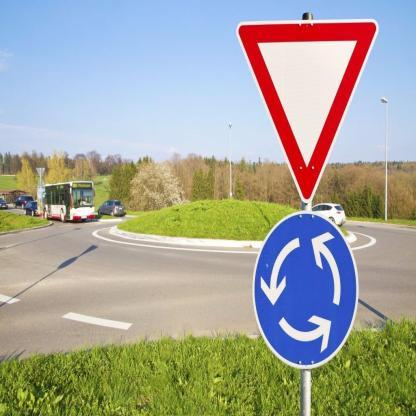road_sign: (237, 19, 377, 202), (253, 211, 358, 369)
